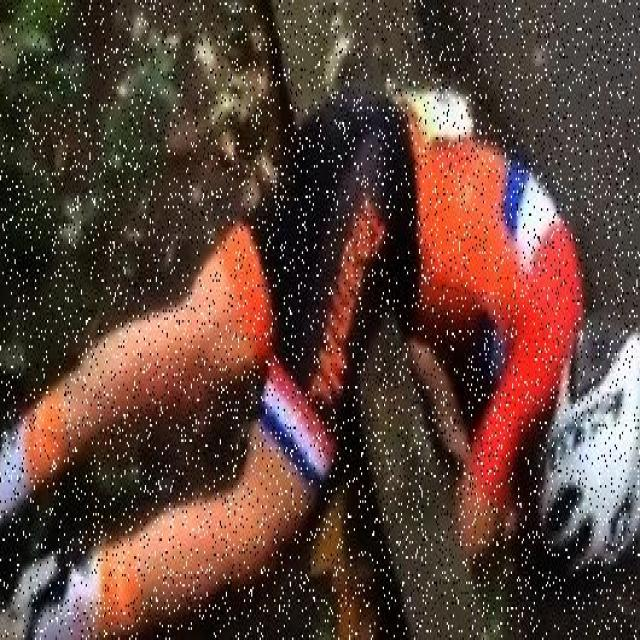fall: (5, 66, 639, 612)
